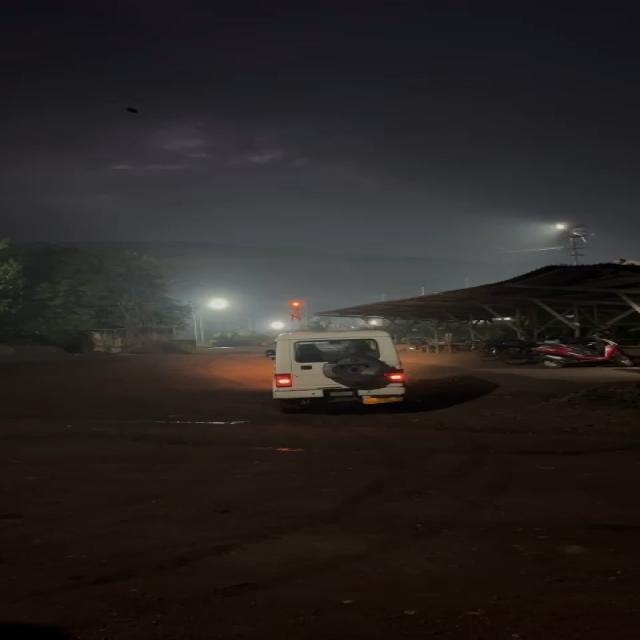light_vehicle: (264, 328, 414, 406)
